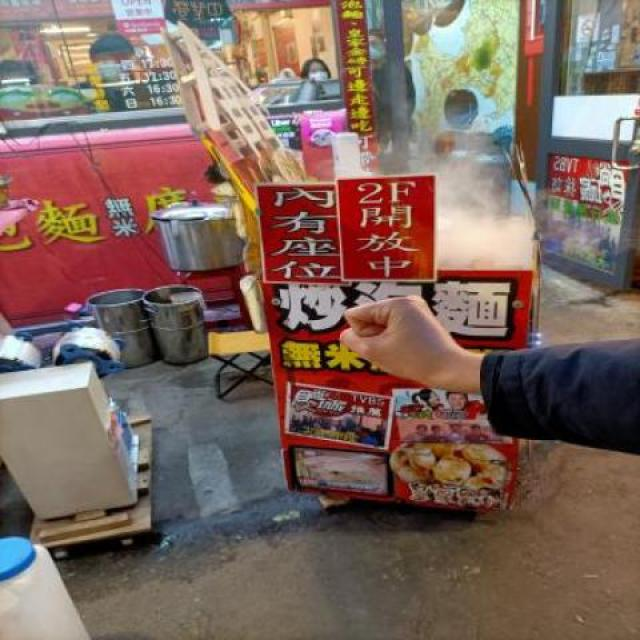Closed Hand: (336, 293, 471, 399)
